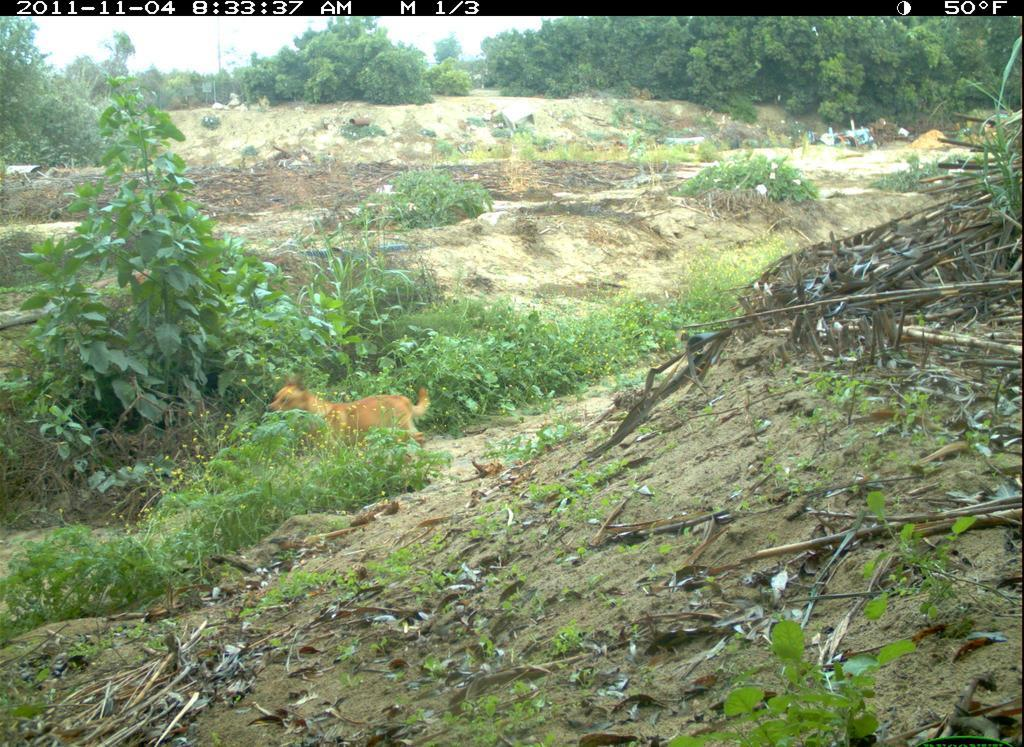dog: (259, 370, 441, 464)
